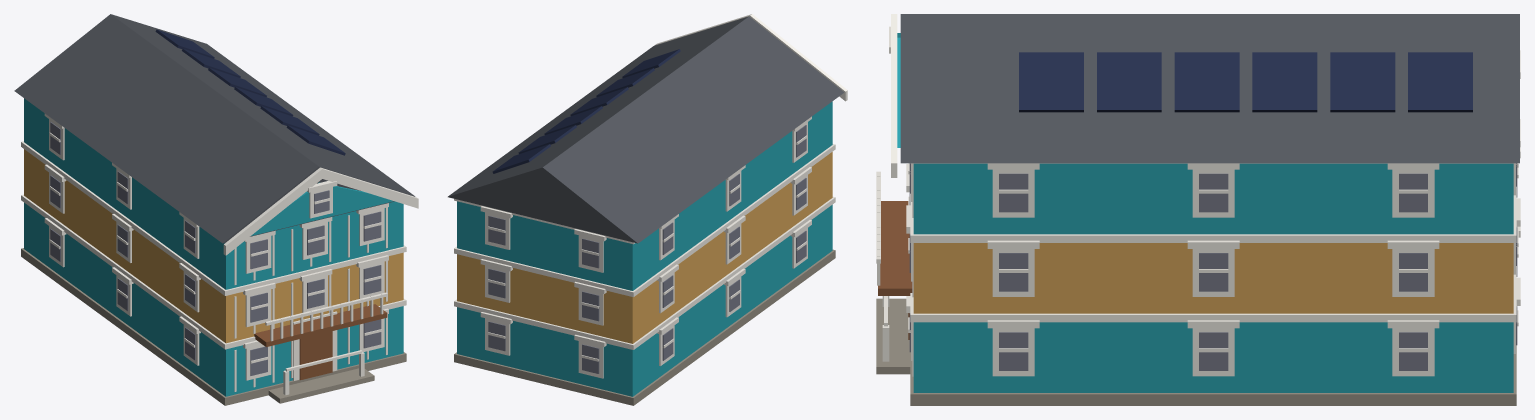
File: house-1x2-3f-valparaiso-a-solar.glb
The picture shows the model from 3 angles, left to right: view 1: azimuth 30°, elevation 25°; view 2: azimuth 150°, elevation 25°; view 3: azimuth 270°, elevation 25°; orthographic projection. The views are drawn at different scales.
Parts seen in each view (by area): view 1: house-1x2-3f-valparaiso-a-solar; view 2: house-1x2-3f-valparaiso-a-solar; view 3: house-1x2-3f-valparaiso-a-solar.
Boxes of the visible parts, <box> form: house-1x2-3f-valparaiso-a-solar: <box>14,14,418,405</box>; house-1x2-3f-valparaiso-a-solar: <box>448,14,847,405</box>; house-1x2-3f-valparaiso-a-solar: <box>876,14,1520,405</box>.
Bounding box in the file's own units: 1.02 × 1.11 × 1.99.
1 material, 1 textured.
